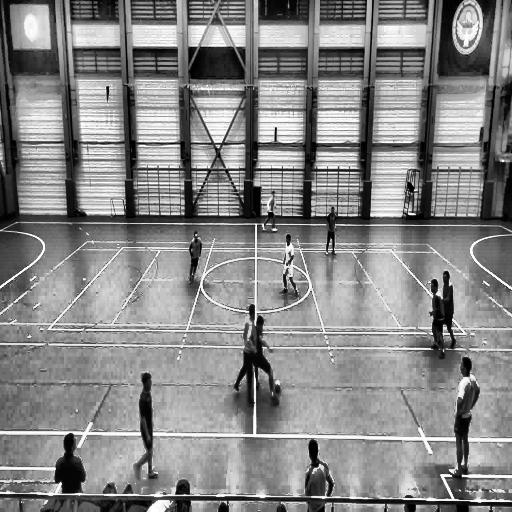ball: (274, 379, 280, 393)
player: (448, 358, 479, 477), (252, 315, 280, 408), (234, 304, 258, 409), (136, 375, 160, 478), (305, 440, 334, 511), (440, 272, 456, 350), (282, 234, 298, 296), (188, 231, 202, 285), (262, 190, 276, 230), (326, 209, 336, 256), (432, 289, 445, 320)
